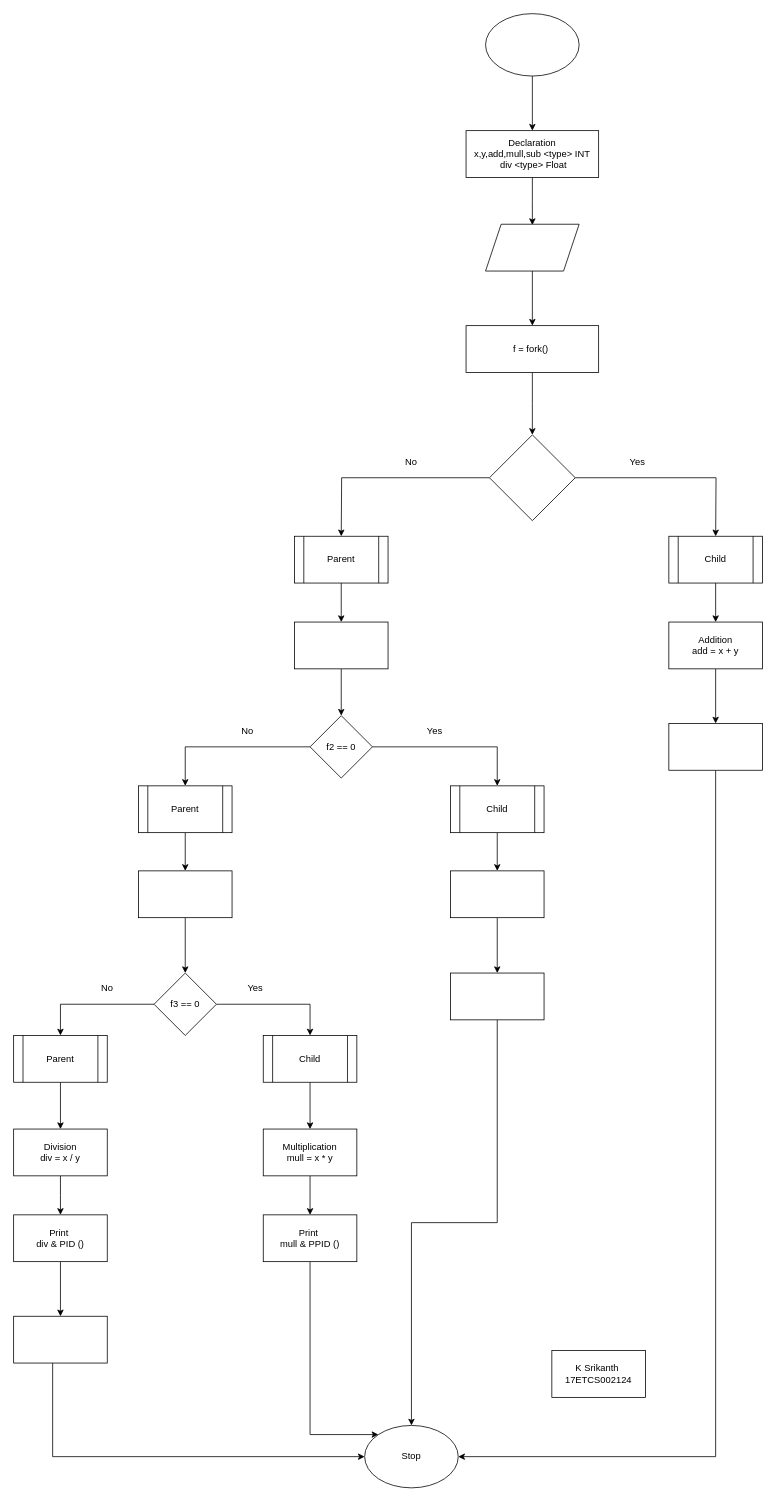
Image size: 776x1502. Some labels were removed from this diagram. Each missing label, with the box of its shape:
f == 0: (489, 434, 575, 521)
f2 = fork(): (294, 621, 388, 669)
f3 = fork(): (138, 870, 232, 918)
Input x,y <type> INT: (485, 223, 579, 271)
Print add & PPID (): (668, 723, 762, 770)
Print sub & PPID (): (450, 972, 544, 1020)
Start: (485, 13, 579, 76)
Subtraction sub = x - y: (450, 870, 544, 918)
Wait (NULL): (13, 1315, 107, 1363)
